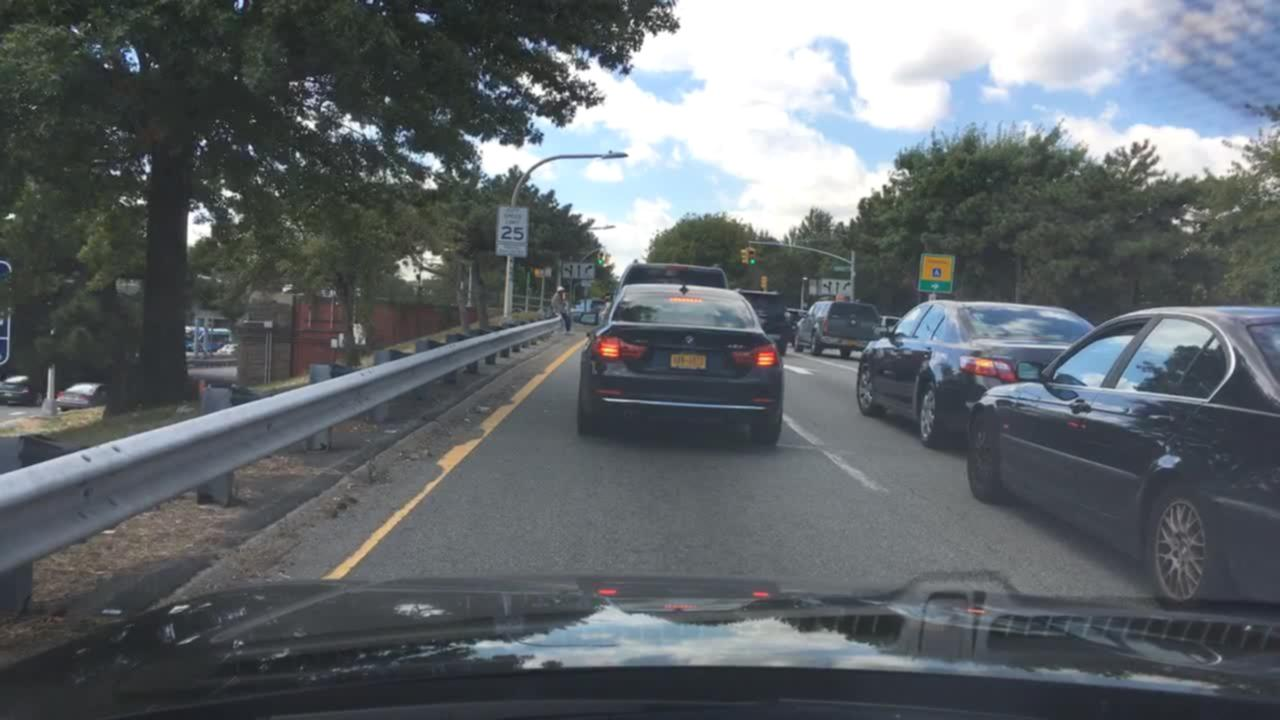bmw: (679, 331, 701, 351)
